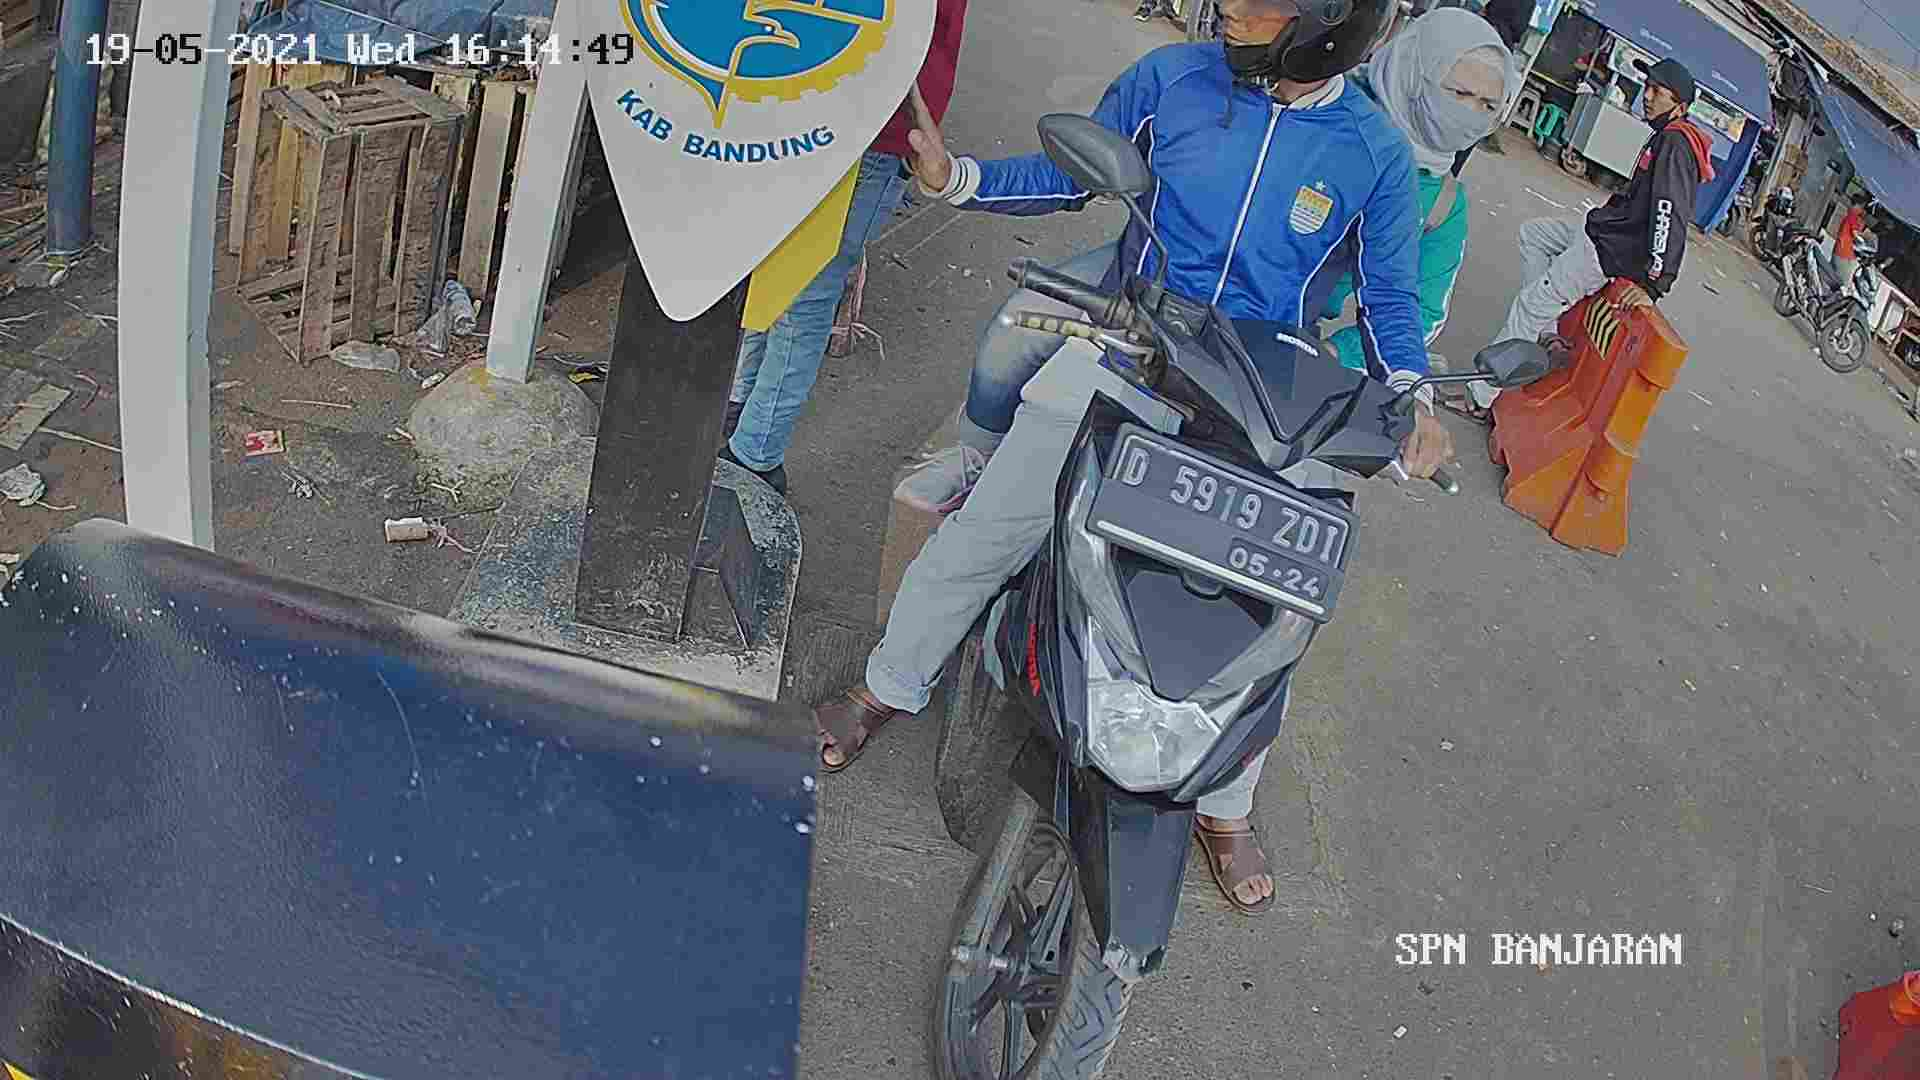motor: (967, 265, 1346, 1080)
